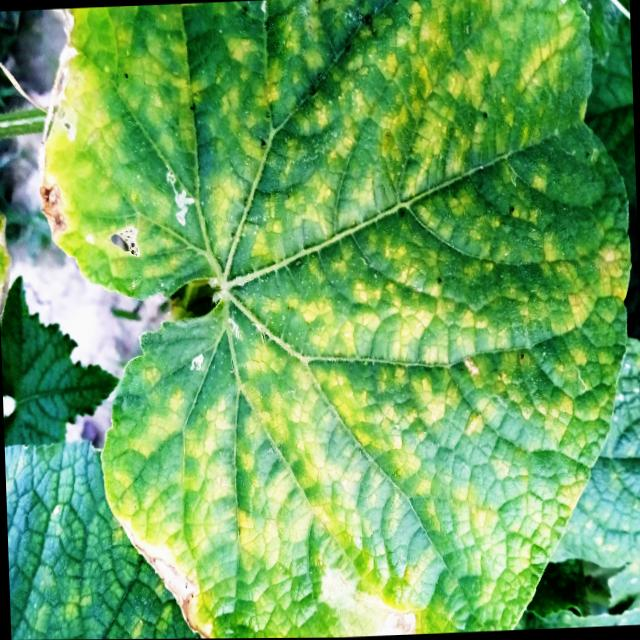Downy-Mildew: (45, 0, 634, 639), (4, 447, 197, 640)
